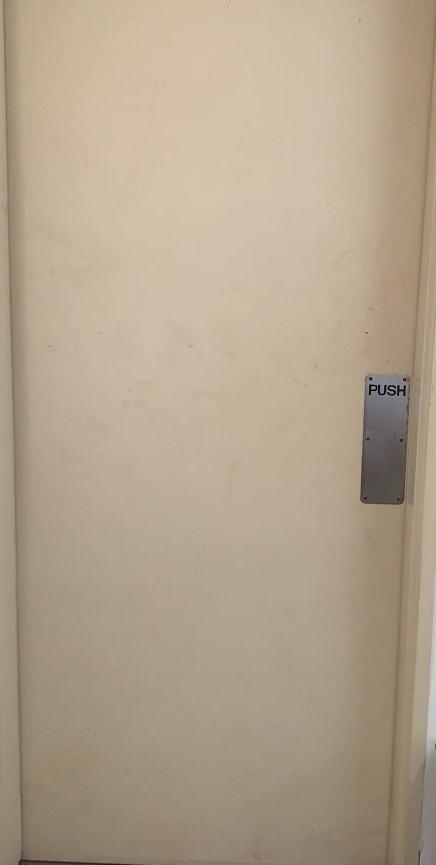door: (0, 0, 416, 865)
